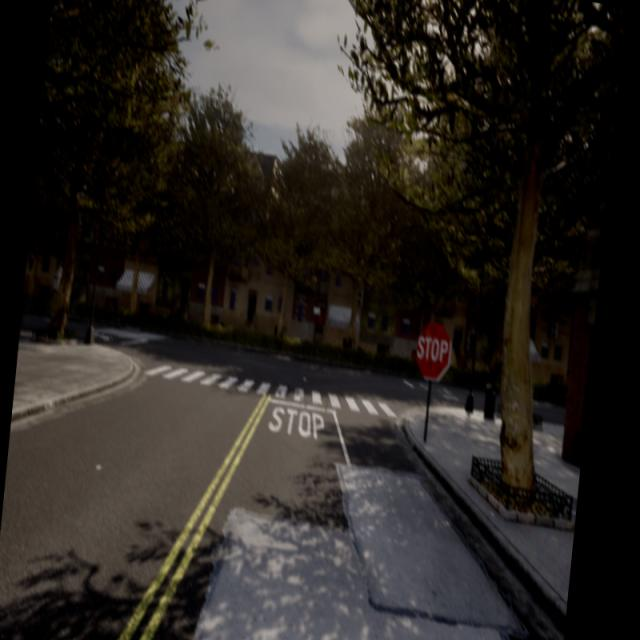stop sign: (413, 319, 453, 383)
